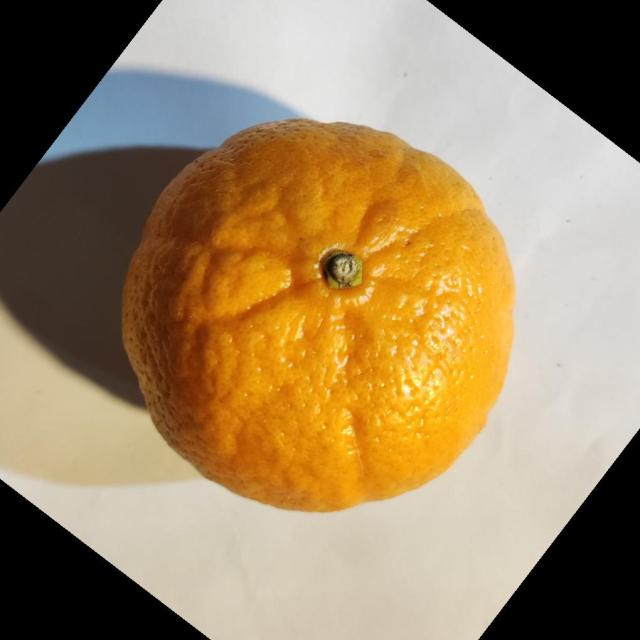fresh orange: (120, 116, 516, 513)
